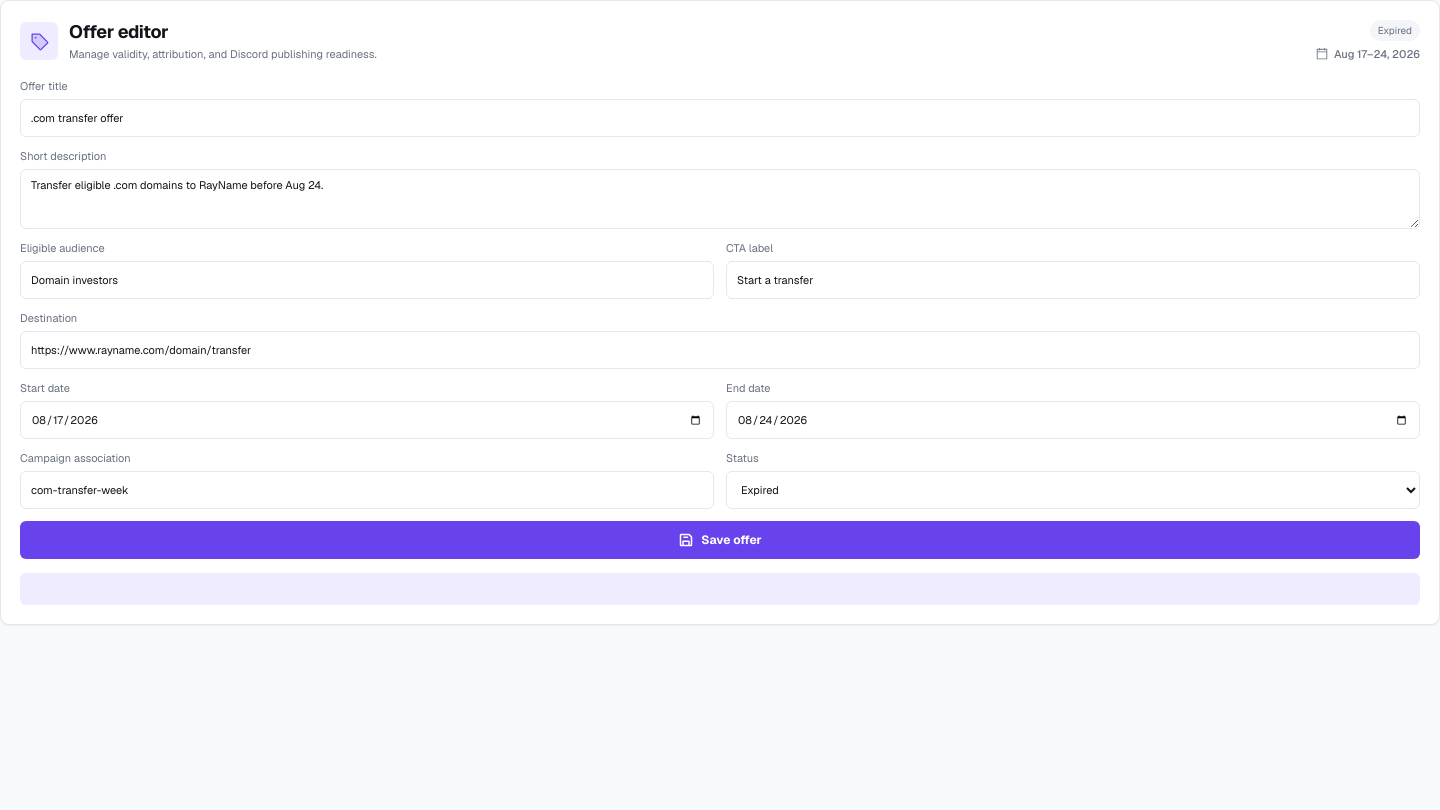
rejects an external offer destination and focuses it
Replace the text in the field labelled "Destination" with "https://example.com/transfer": coordinates (720, 350) [20,331,1420,369]
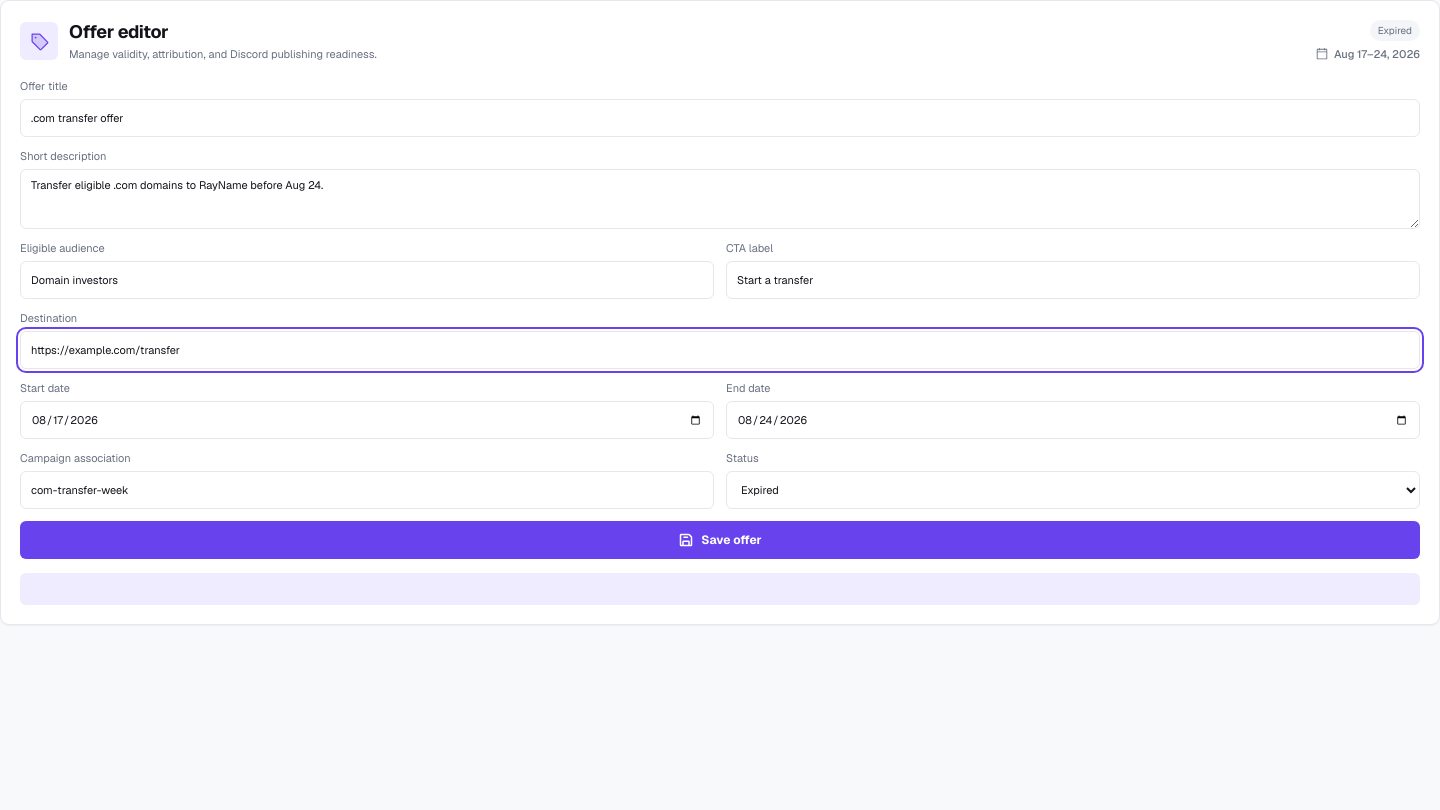
Click the button "Save offer": coordinates (720, 540) [20,521,1420,559]
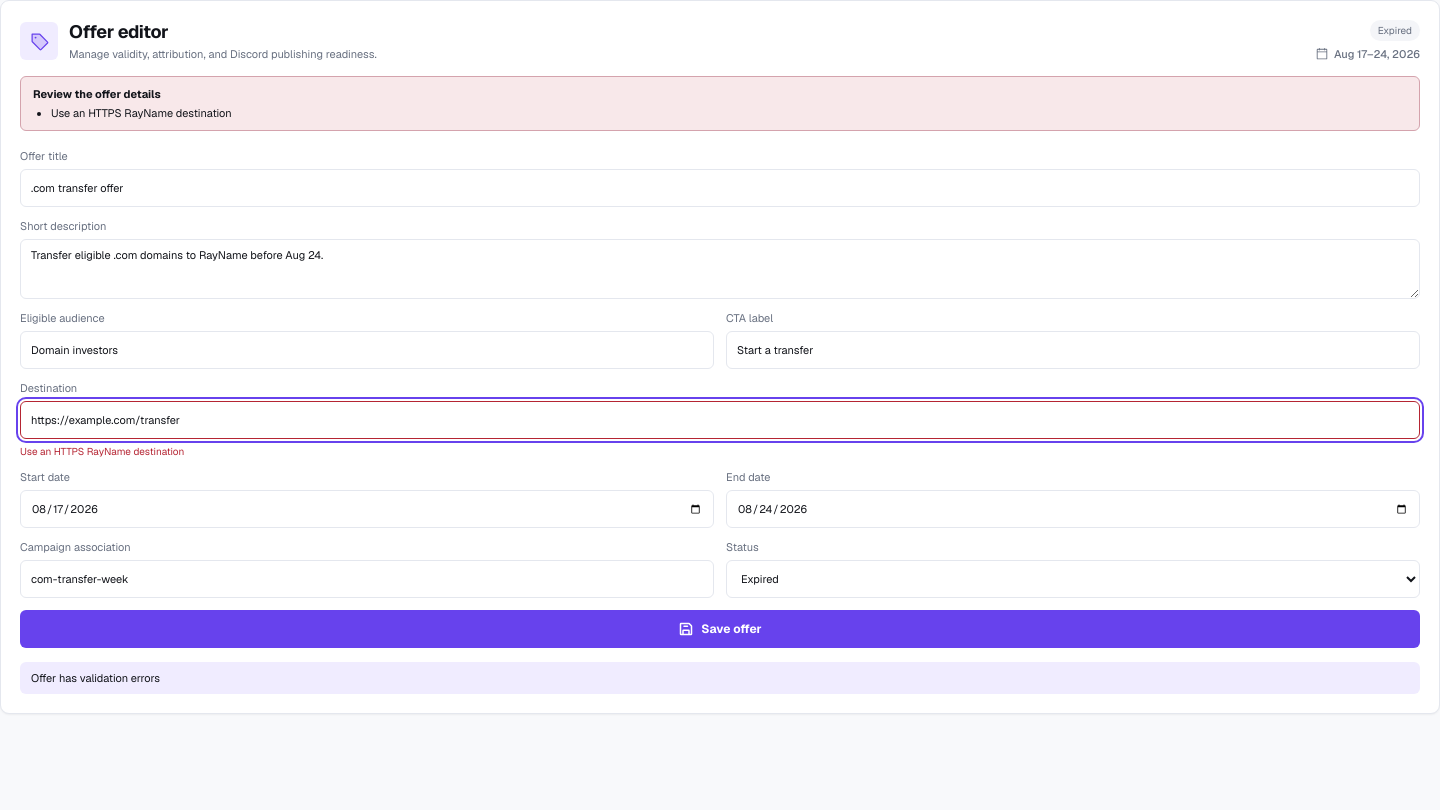
Result: the message "Review the offer details Use an HTTPS RayName destination" is shown at [20,76,1420,131]
